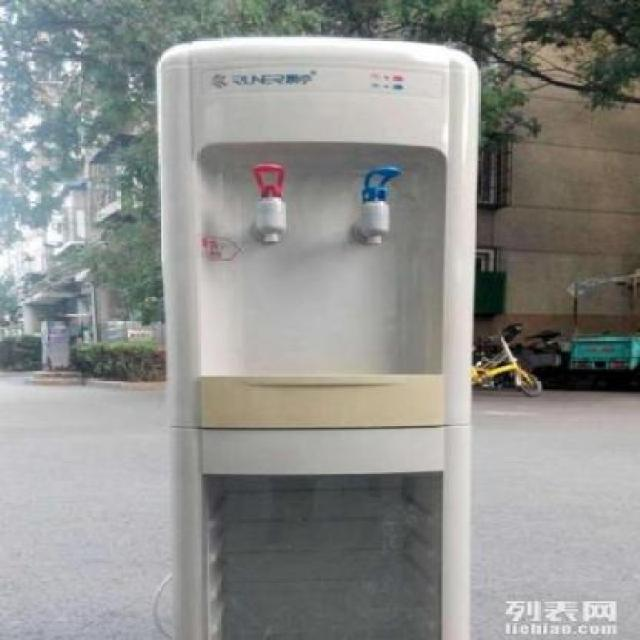cooler: (154, 32, 481, 640)
